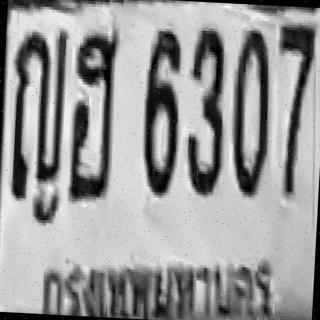A13: (6, 26, 68, 200), (8, 27, 69, 176), (7, 64, 68, 202), (10, 28, 68, 160)
A44: (66, 28, 119, 202)
N00: (229, 26, 274, 197)
N03: (182, 25, 229, 196)
N06: (139, 25, 182, 196)
N07: (272, 22, 316, 174), (274, 22, 316, 133)
P04: (36, 251, 278, 320)
